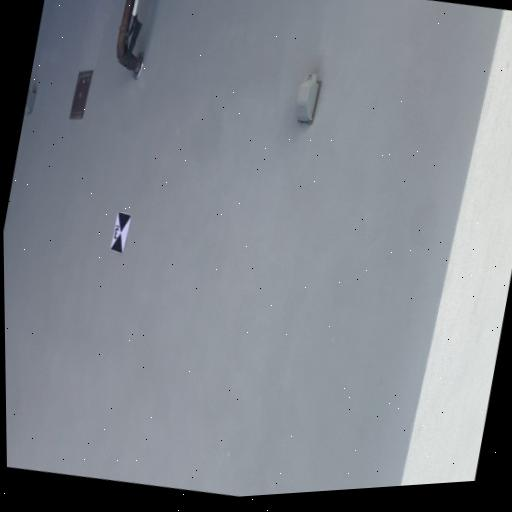target3: (110, 210, 132, 256)
